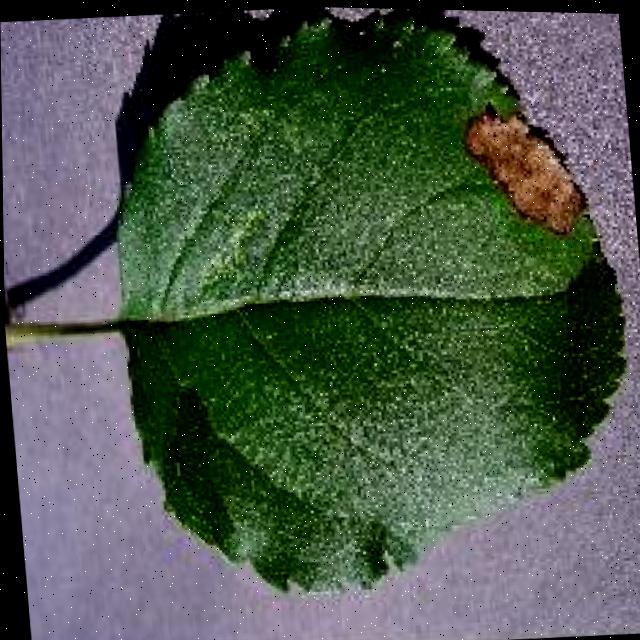black_rot: (447, 85, 604, 255)
